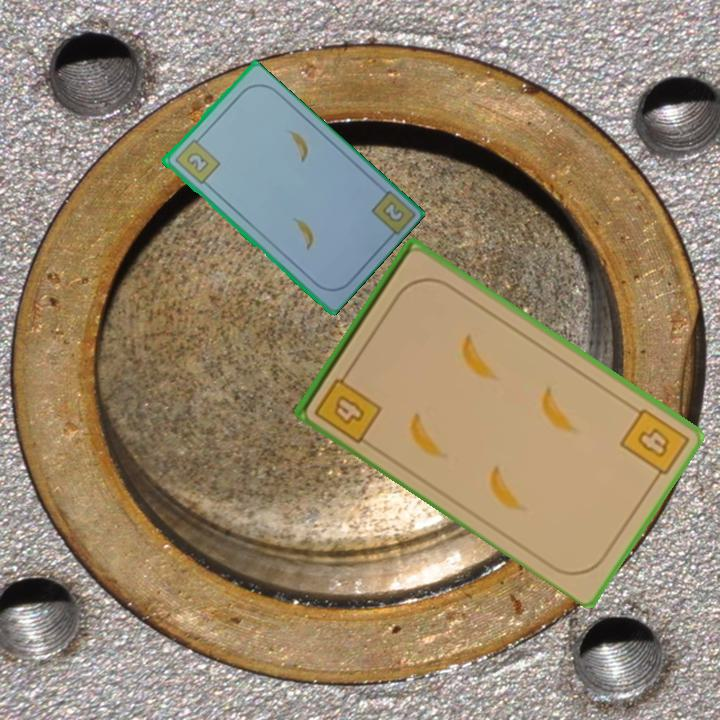2b: (171, 133, 222, 187), (378, 198, 407, 225)
4b: (310, 363, 385, 446), (616, 404, 691, 485)
